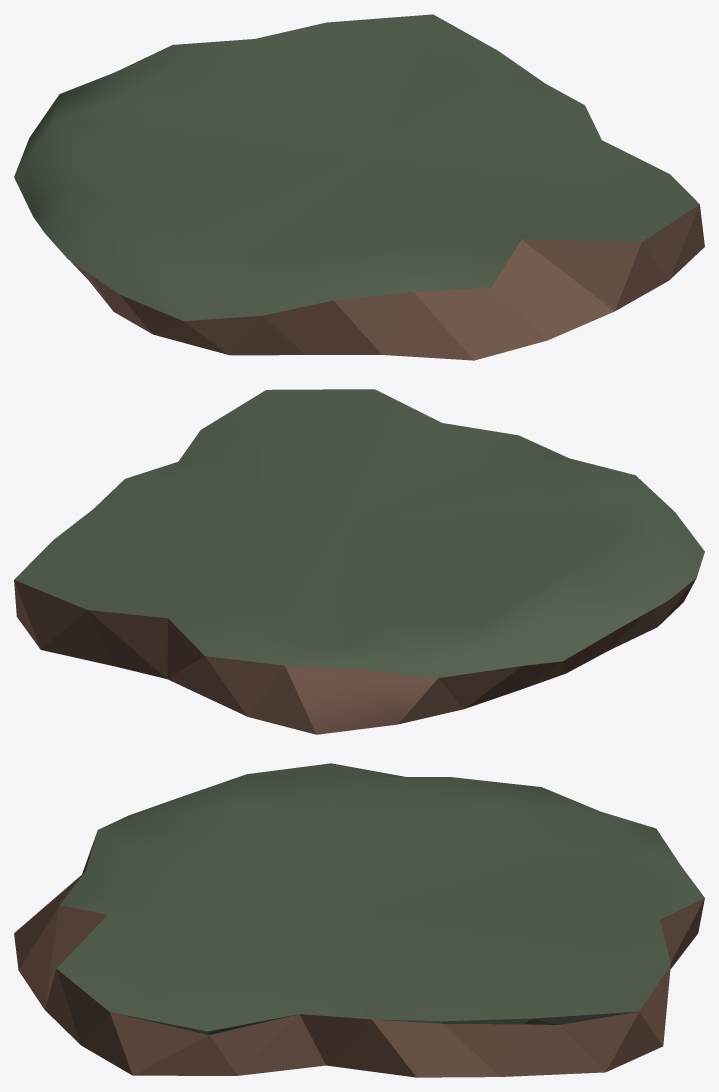
The model's file is ground.gltf.
3 views of the same model, one above another, from view 1: azimuth 30°, elevation 25°; view 2: azimuth 150°, elevation 25°; view 3: azimuth 270°, elevation 25° (orthographic). The views are drawn at different scales.
Parts seen in each view (by area): view 1: Ground_Texture-base_0; view 2: Ground_Texture-base_0; view 3: Ground_Texture-base_0.
Part boxes in pixels (bbox=[...]): Ground_Texture-base_0: bbox=[14, 14, 704, 360]; Ground_Texture-base_0: bbox=[14, 389, 704, 734]; Ground_Texture-base_0: bbox=[14, 763, 704, 1077].
Bounding box in the file's own units: 27.22 × 3.08 × 29.78.
